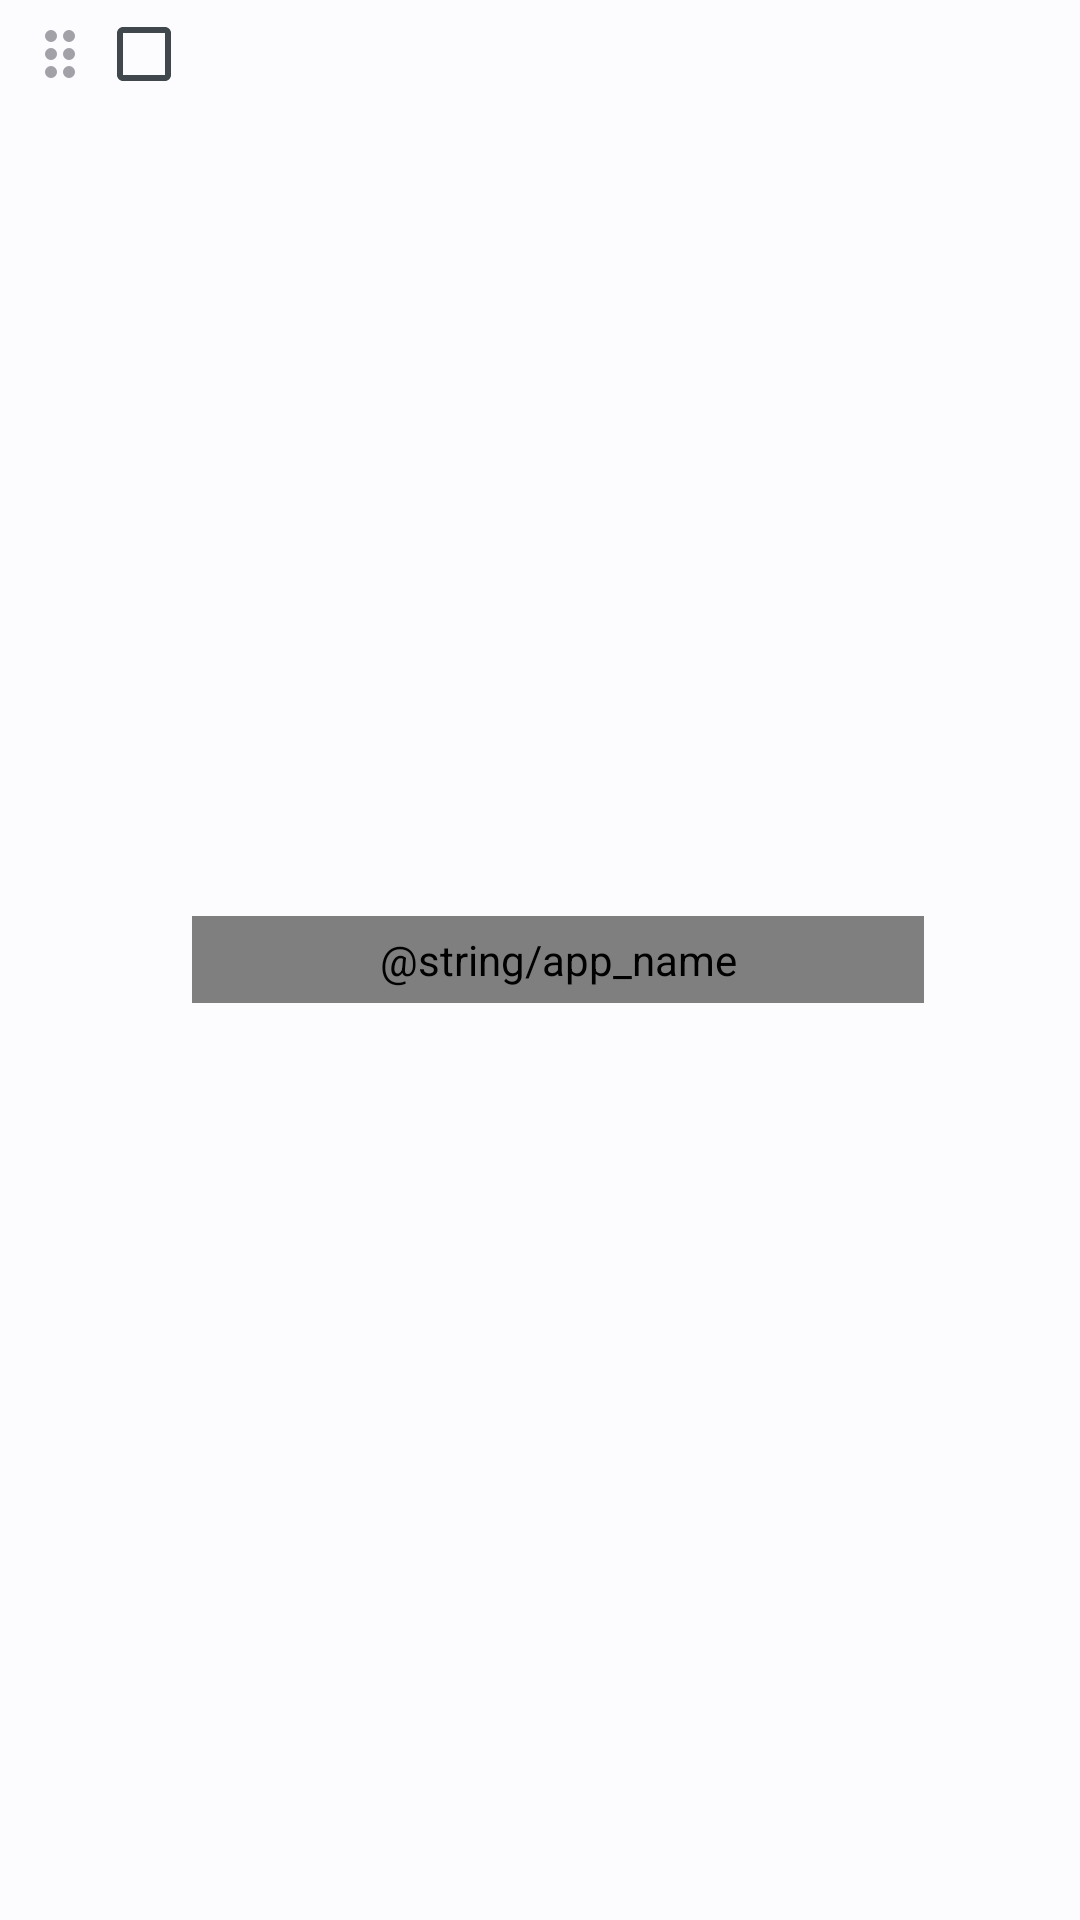

Where icons sit on this 1080×1920 app screen, as rect(x1, y1, x2, y2):
drag: rect(45, 30, 75, 78)
